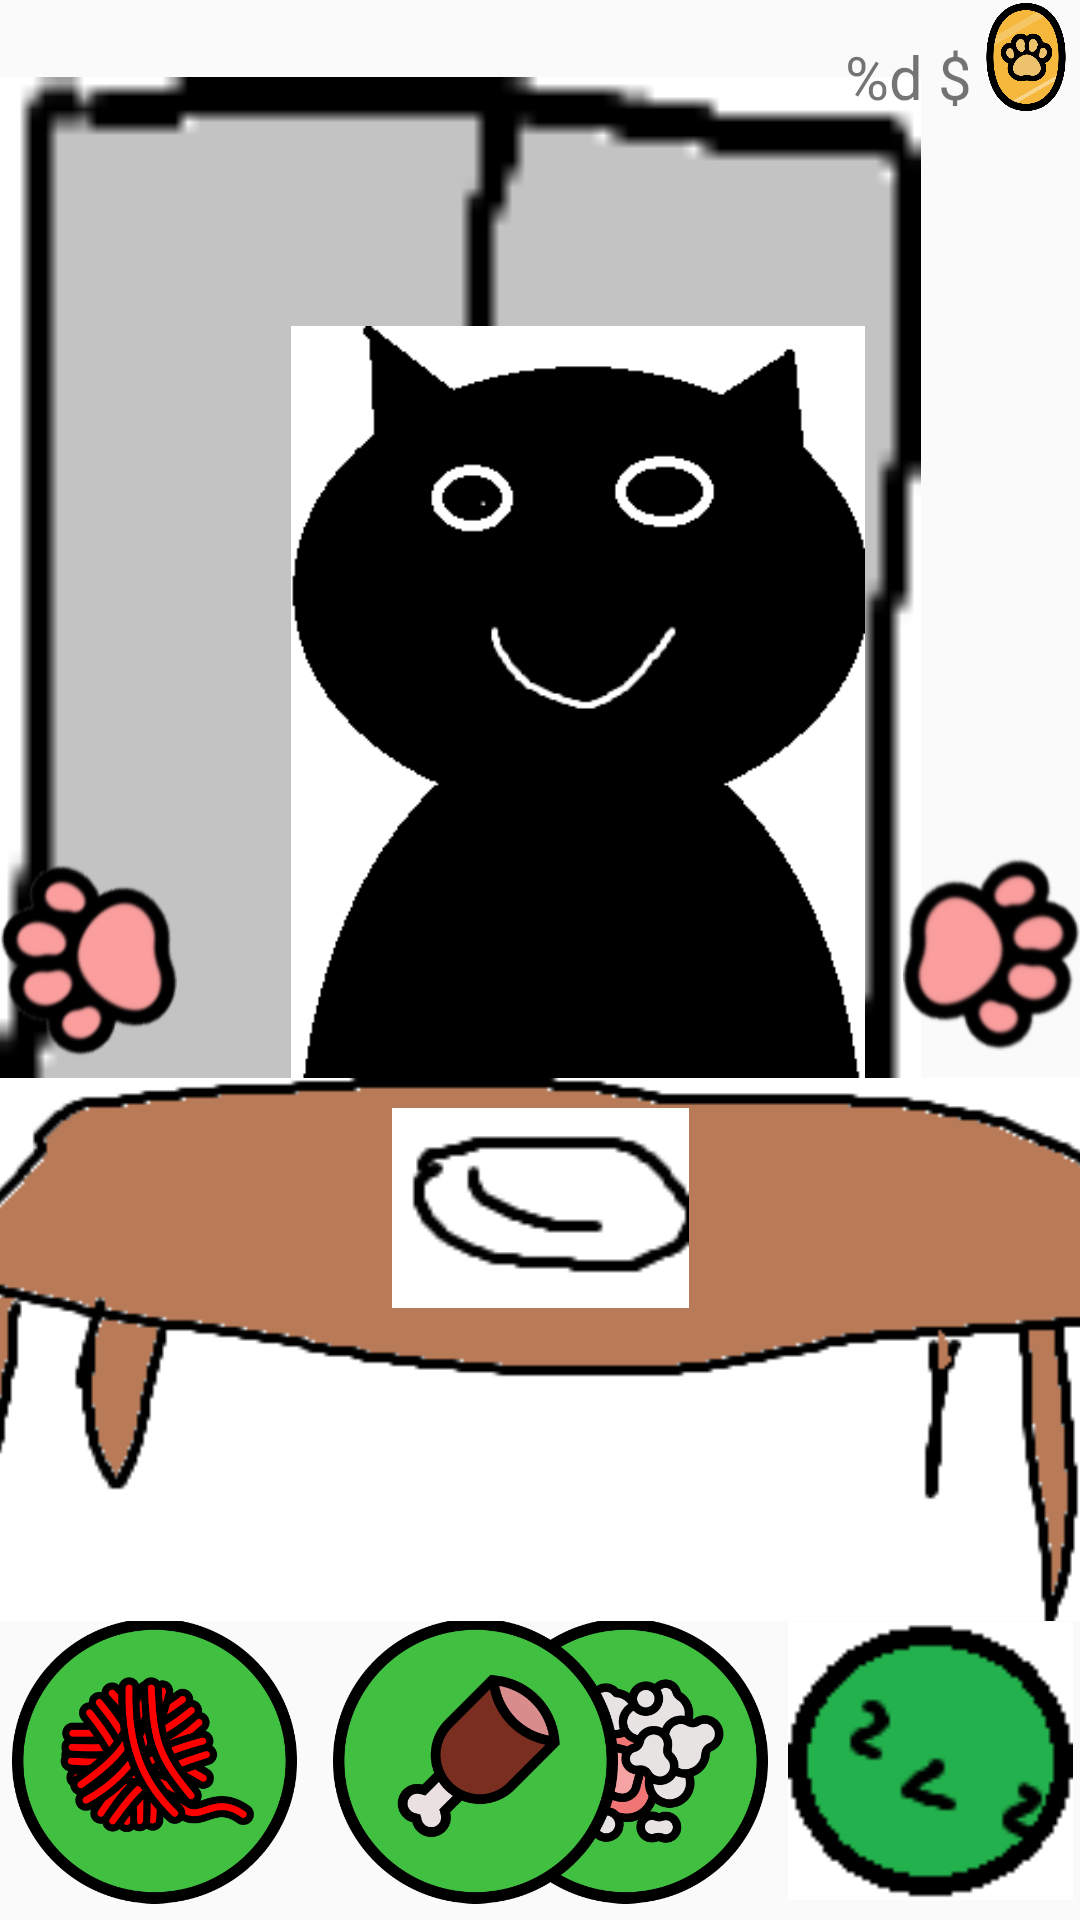

Screen size 1080px×1920px. Icon name, then its box in pixels as (x1, y1, x2, y2):
coin: (986, 3, 1066, 111)
hungry full: (333, 1621, 618, 1904)
mood full: (12, 1621, 297, 1904)
sleep full: (788, 1625, 1073, 1897)
